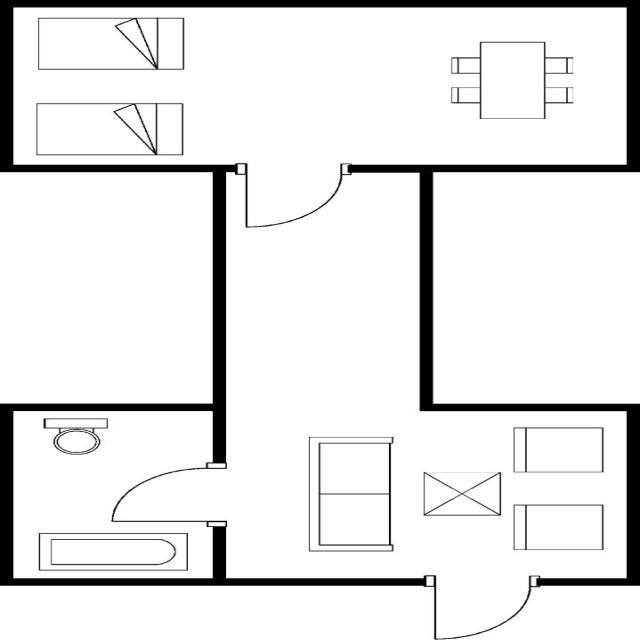bed: (26, 98, 192, 160), (31, 13, 192, 74)
coffee_table: (418, 468, 507, 522)
dining_table: (440, 37, 583, 125)
large_sink: (31, 414, 123, 456)
large_sofa: (302, 432, 401, 558)
small_sofa: (507, 501, 612, 555), (501, 422, 605, 476)
tub: (26, 527, 195, 575)
